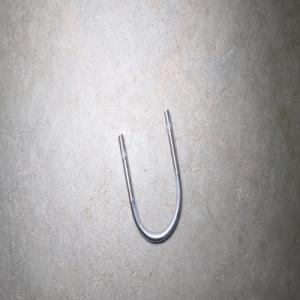ClampPart: (117, 108, 182, 245)
